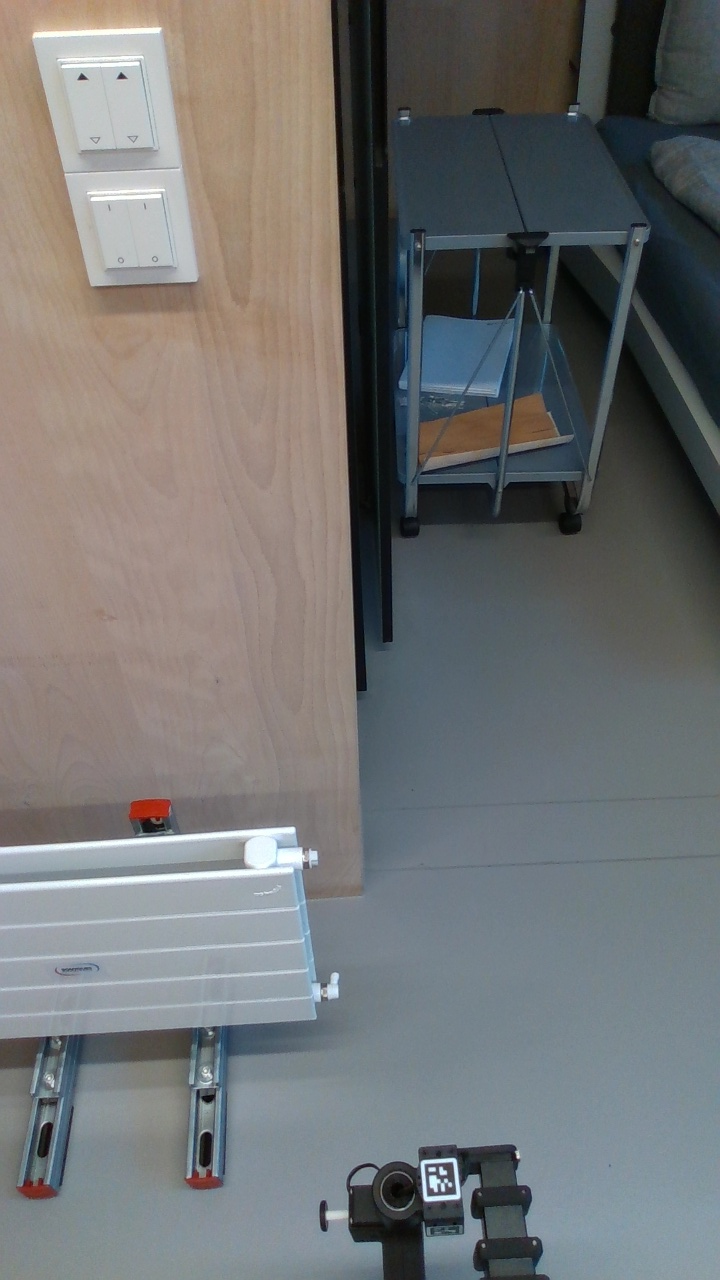Light_Switch: (50, 37, 160, 160), (73, 177, 193, 284)
Radiator: (1, 818, 324, 1052)
